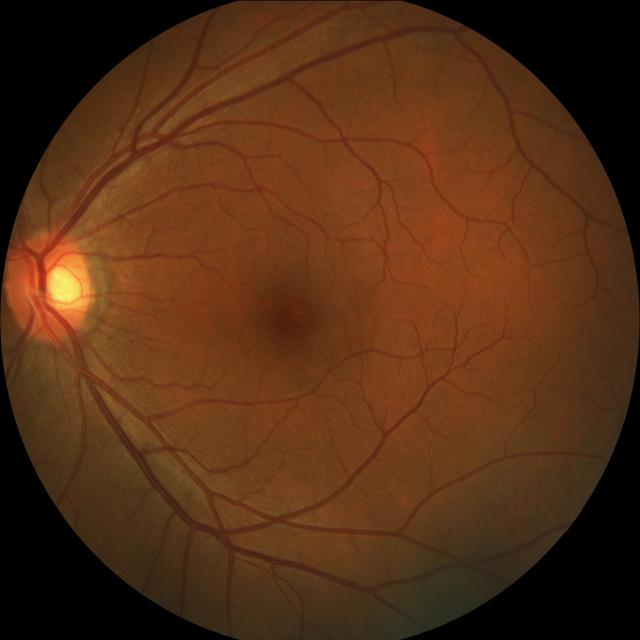OC: (29, 264, 80, 310)
OD: (5, 227, 91, 341)
